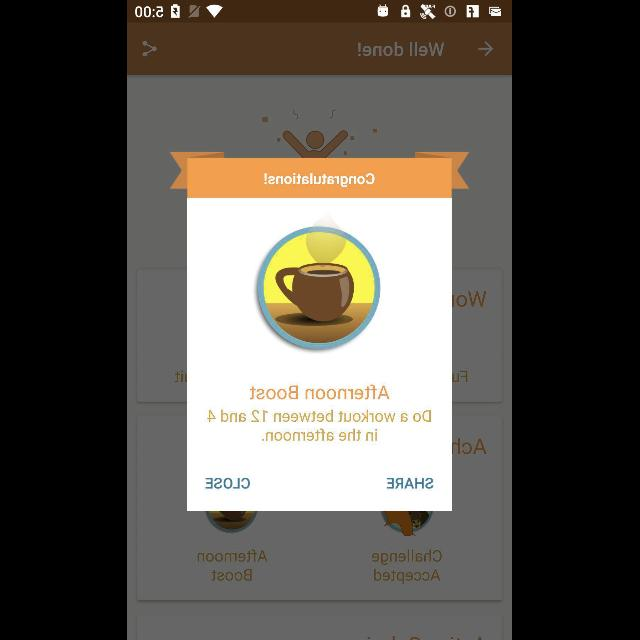icon: (142, 41, 158, 57), (479, 42, 495, 58)
image: (256, 214, 382, 350)
panel: (172, 151, 470, 511)
text: (208, 411, 432, 442), (372, 549, 442, 585), (250, 384, 392, 401), (198, 549, 268, 581), (264, 172, 376, 188), (358, 42, 446, 58), (386, 477, 434, 489), (206, 477, 250, 489)
uppertaskbar: (128, 1, 512, 23)
